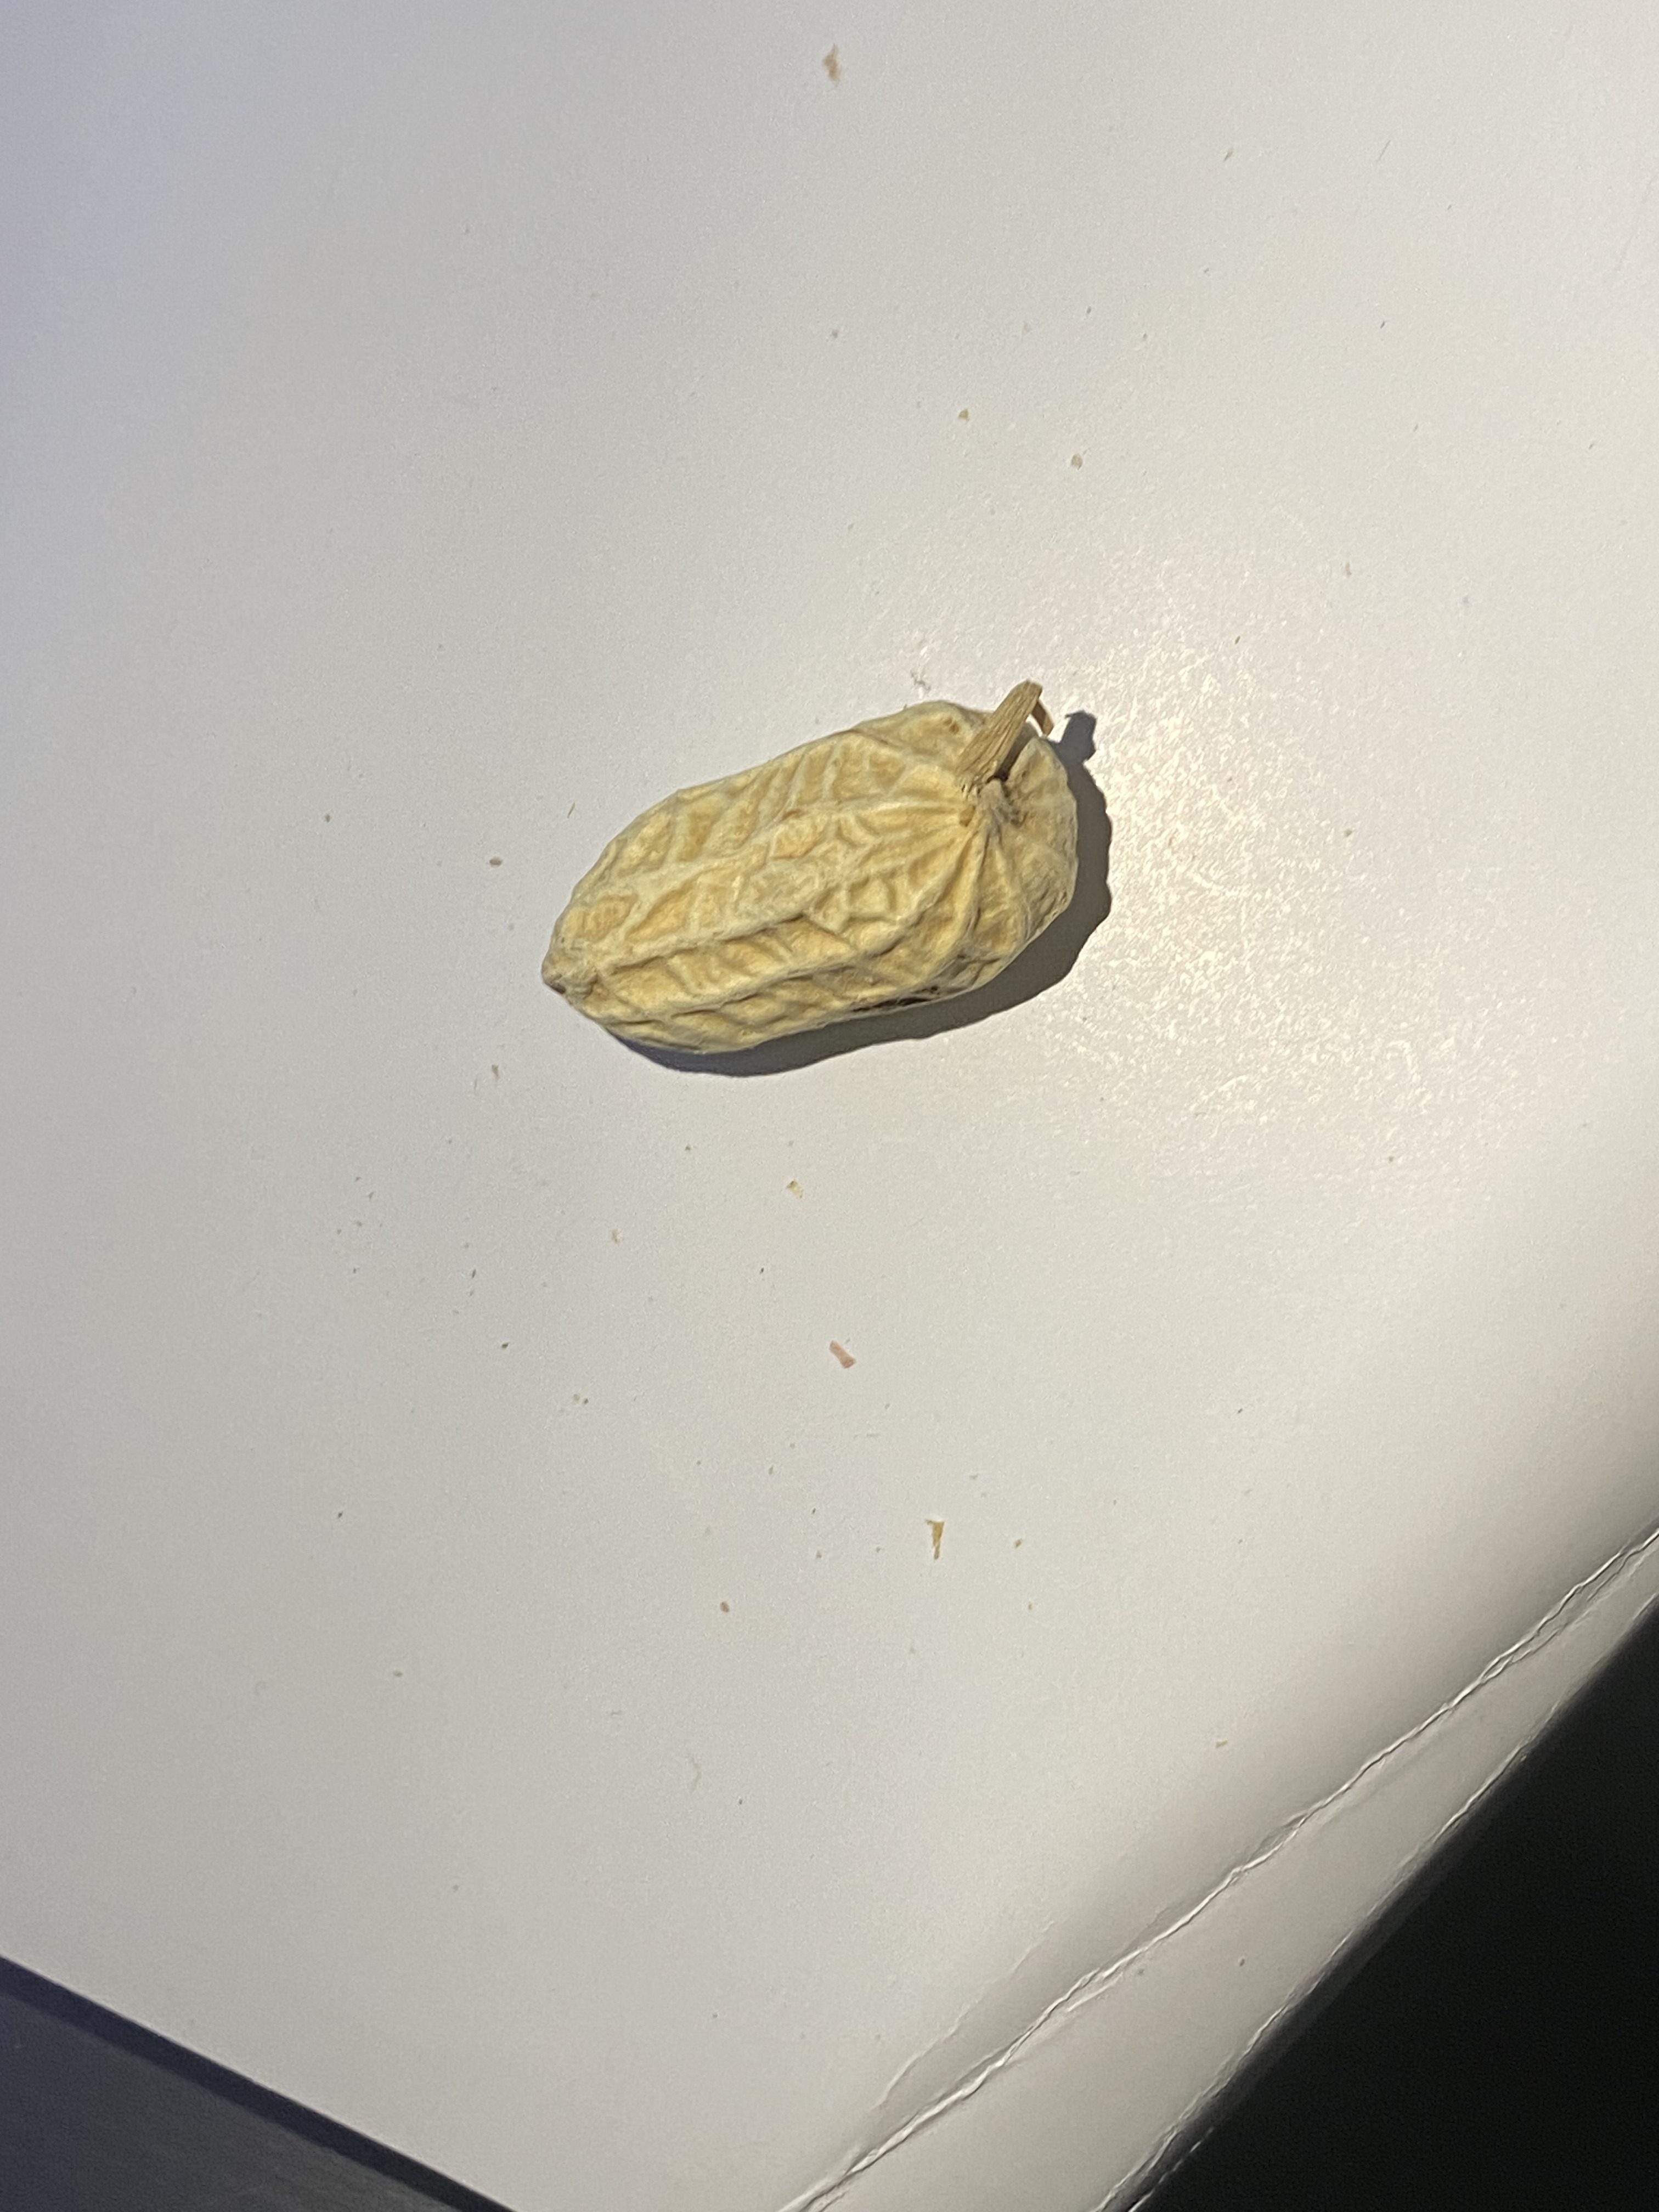kacang2: (526, 625, 1136, 1078)
